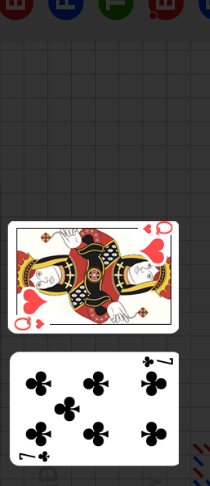7C: (17, 449, 52, 463)
9H: (141, 221, 175, 236)
